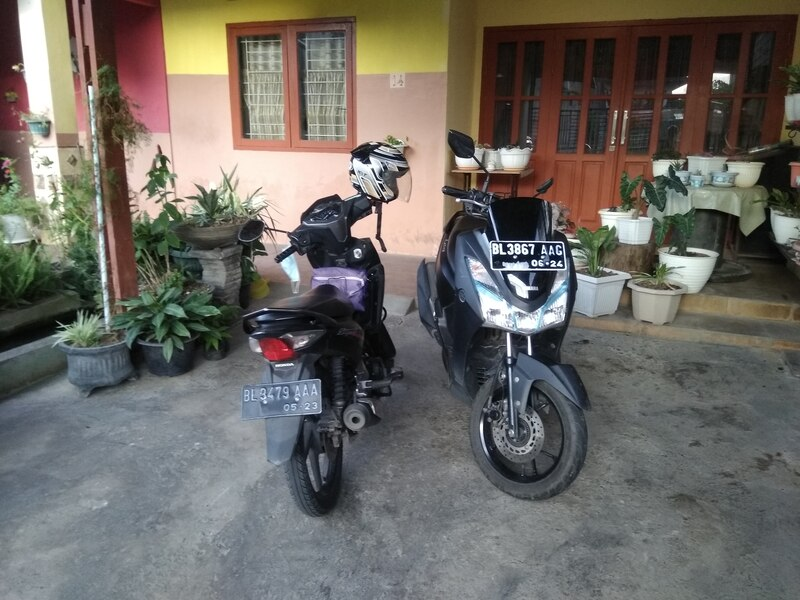motorcycle: (414, 131, 594, 506), (233, 182, 403, 526)
